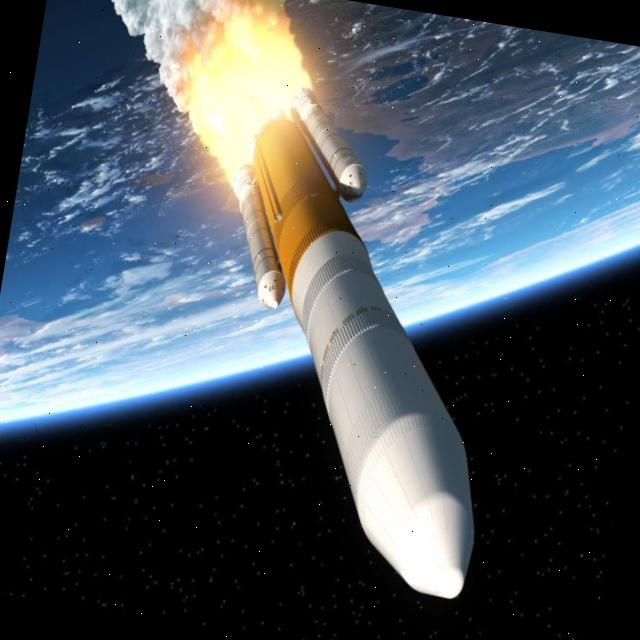rocket: (160, 57, 552, 620)
